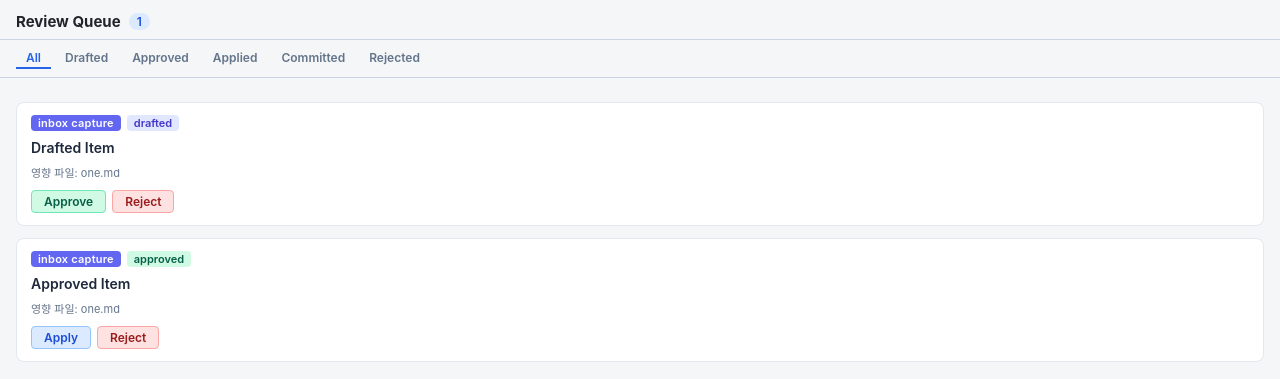
ReviewQueuePanel › filters items by status via the filter tabs
Expected: the number of elements with test id "review-queue-item" is 2, [16, 102, 1264, 226]; [16, 238, 1264, 362]
What coordinates should you click on to do the following:
click the button "approved"
I would click on:
 (160, 58)
Its box is [122, 48, 199, 69].
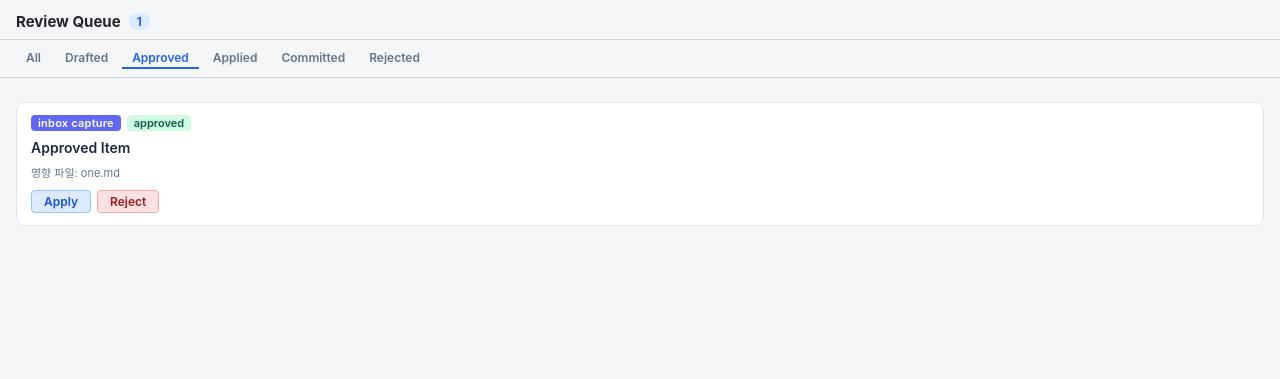
Expected: the text "Approved Item" is shown, [31, 139, 130, 156]
Expected: the number of elements with test id "review-queue-item" is 1, [16, 102, 1264, 226]
What coordinates should you click on to do the following:
click the button "rejected"
I would click on:
 (395, 58)
Its box is [359, 48, 430, 69].
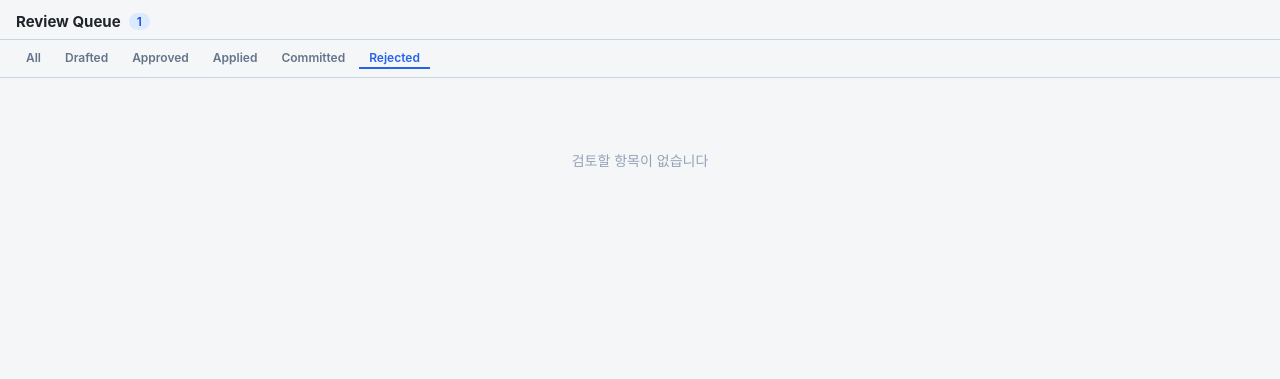
Expected: no elements with test id "review-queue-item" are shown
Expected: the text "검토할 항목이 없습니다" is shown, [572, 152, 708, 169]
